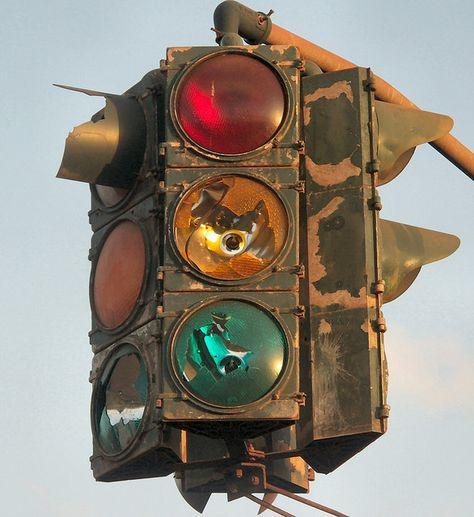off traffic light: (158, 0, 308, 457), (306, 48, 459, 472), (57, 82, 170, 481)
